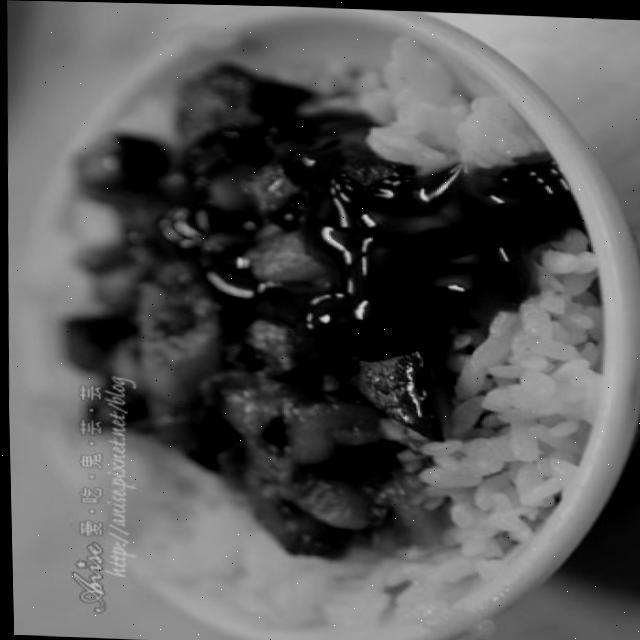猪肉菜式: (13, 0, 640, 637)
